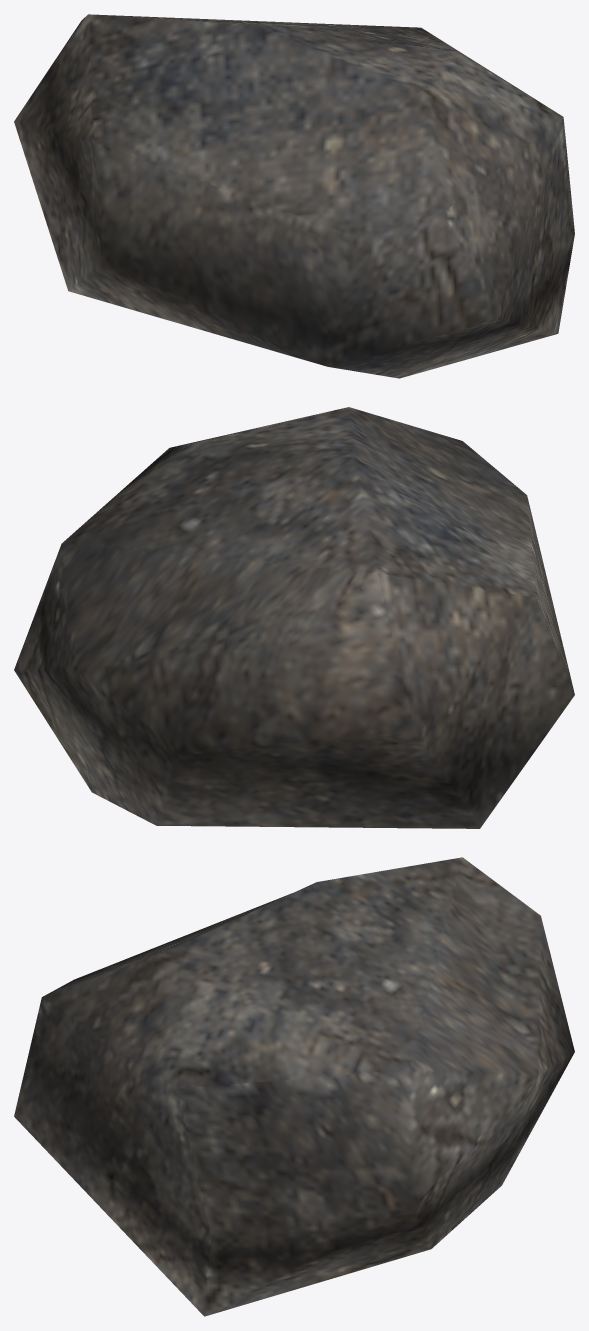
File: RockSm2_2_LOD1.fbx
3 renders of one model, top to bottom at view 1: azimuth 30°, elevation 25°; view 2: azimuth 150°, elevation 25°; view 3: azimuth 270°, elevation 25°, orthographic. The views are drawn at different scales.
Visible parts, largest first — view 1: polySurface229; view 2: polySurface229; view 3: polySurface229.
Boxes of the visible parts, x1,y1,x2,y2 form: polySurface229: (14, 14, 574, 378); polySurface229: (14, 407, 574, 828); polySurface229: (14, 857, 574, 1316).
Bounding box in the file's own units: 77.19 × 55.1 × 88.02.
